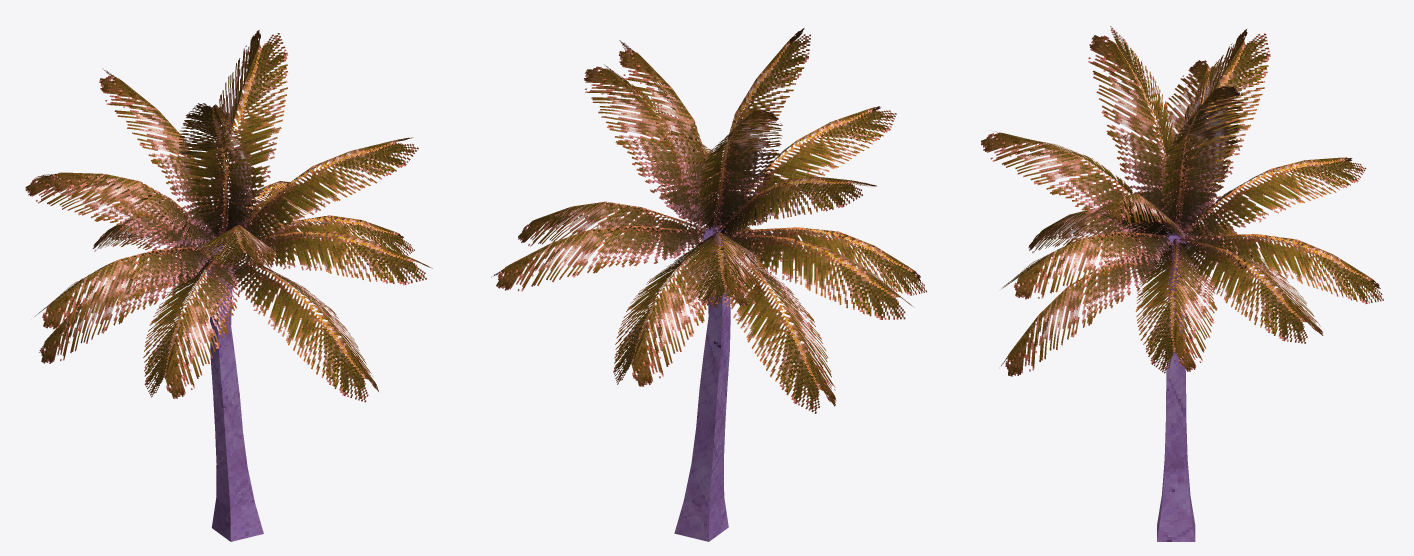
File: palm_tree.glb
3 views of the same model, side by side, from view 1: azimuth 30°, elevation 25°; view 2: azimuth 150°, elevation 25°; view 3: azimuth 270°, elevation 25° (orthographic). The views are drawn at different scales.
Visible parts, largest first — view 1: Leaf.005, Leaf.003, Trunk, Leaf.011, Leaf.013, Leaf.009, Leaf.001, Leaf.007, Leaf.012, Leaf.014, Leaf.010, Leaf.008 (+4 smaller); view 2: Trunk, Leaf.010, Leaf.004, Leaf.006, Leaf.001, Leaf.009, Leaf.012, Leaf.015, Leaf.011, Leaf.008, Leaf.014, Leaf.005 (+3 smaller); view 3: Leaf.013, Leaf.002, Leaf.011, Leaf.006, Leaf.008, Leaf.015, Trunk, Leaf.003, Leaf.004, Leaf.012, Leaf.007, Leaf.009 (+2 smaller).
Part boxes in pixels (<box>): Leaf.005: <box>143,251,239,398</box>; Leaf.003: <box>226,255,378,402</box>; Trunk: <box>206,241,263,541</box>; Leaf.011: <box>211,30,288,239</box>; Leaf.013: <box>179,103,255,236</box>; Leaf.009: <box>243,137,418,242</box>; Leaf.001: <box>35,246,215,329</box>; Leaf.007: <box>242,231,432,285</box>; Leaf.012: <box>99,68,220,238</box>; Leaf.014: <box>37,172,213,245</box>; Leaf.010: <box>39,251,213,363</box>; Leaf.008: <box>25,176,206,247</box>; Trunk: <box>674,226,730,541</box>; Leaf.010: <box>714,244,836,413</box>; Leaf.004: <box>613,236,719,386</box>; Leaf.006: <box>491,225,705,291</box>; Leaf.001: <box>721,233,914,319</box>; Leaf.009: <box>584,64,714,226</box>; Leaf.012: <box>695,109,782,229</box>; Leaf.015: <box>720,106,896,229</box>; Leaf.011: <box>619,40,714,226</box>; Leaf.008: <box>681,232,765,307</box>; Leaf.014: <box>718,176,876,240</box>; Leaf.005: <box>729,227,926,295</box>; Leaf.013: <box>1088,26,1177,226</box>; Leaf.002: <box>1135,238,1217,373</box>; Leaf.011: <box>1159,86,1243,231</box>; Leaf.006: <box>1176,237,1323,343</box>; Leaf.008: <box>1181,157,1366,238</box>; Leaf.015: <box>981,131,1164,234</box>; Trunk: <box>1157,230,1195,541</box>; Leaf.003: <box>1001,245,1168,376</box>; Leaf.004: <box>1184,234,1383,304</box>; Leaf.012: <box>1175,29,1270,230</box>; Leaf.007: <box>1002,232,1171,299</box>; Leaf.009: <box>1083,194,1185,239</box>.
Size of the model in its own units: 3.52 by 4.05 by 3.23.
Materials: 1 (1 with a texture image).
